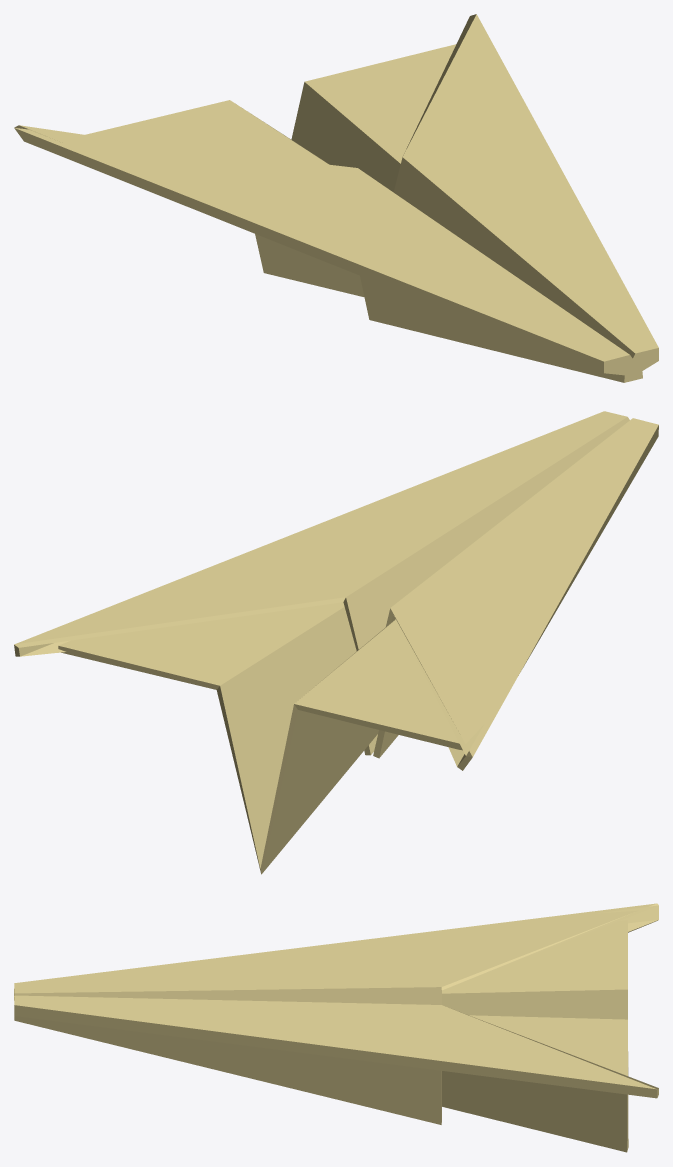
Rendered from paper_plane_actual.fbx.
3 renders of one model, top to bottom at view 1: azimuth 30°, elevation 25°; view 2: azimuth 150°, elevation 25°; view 3: azimuth 270°, elevation 25°, orthographic. The views are drawn at different scales.
Visible parts, largest first — view 1: Plane.001; view 2: Plane.001; view 3: Plane.001.
Part boxes in pixels (box(x1,y1,x2,y2)): Plane.001: box(14, 14, 658, 382); Plane.001: box(14, 411, 658, 874); Plane.001: box(14, 903, 658, 1152).
Bounding box in the file's own units: 226 × 89.5 × 331.
